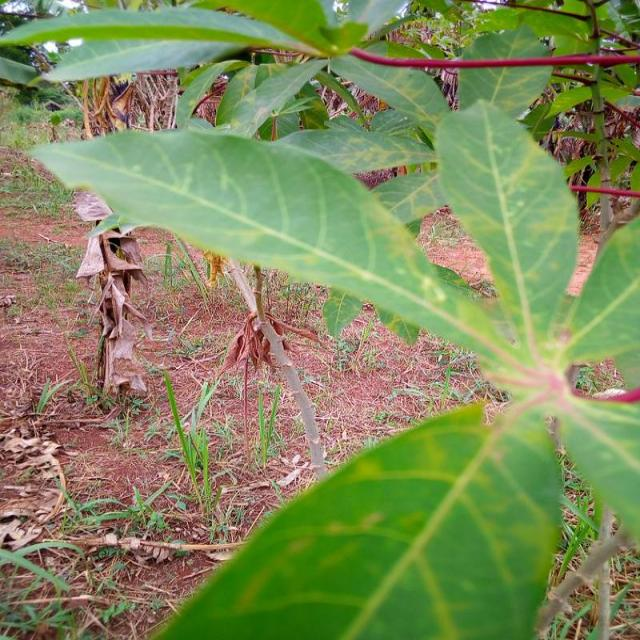cassava leaf: (26, 123, 515, 371), (146, 399, 564, 638), (433, 97, 579, 348)
